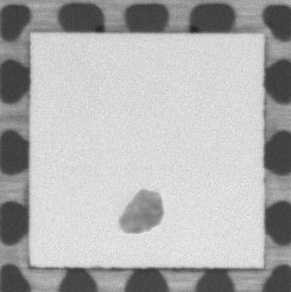DIE_INK: (112, 184, 169, 240)
